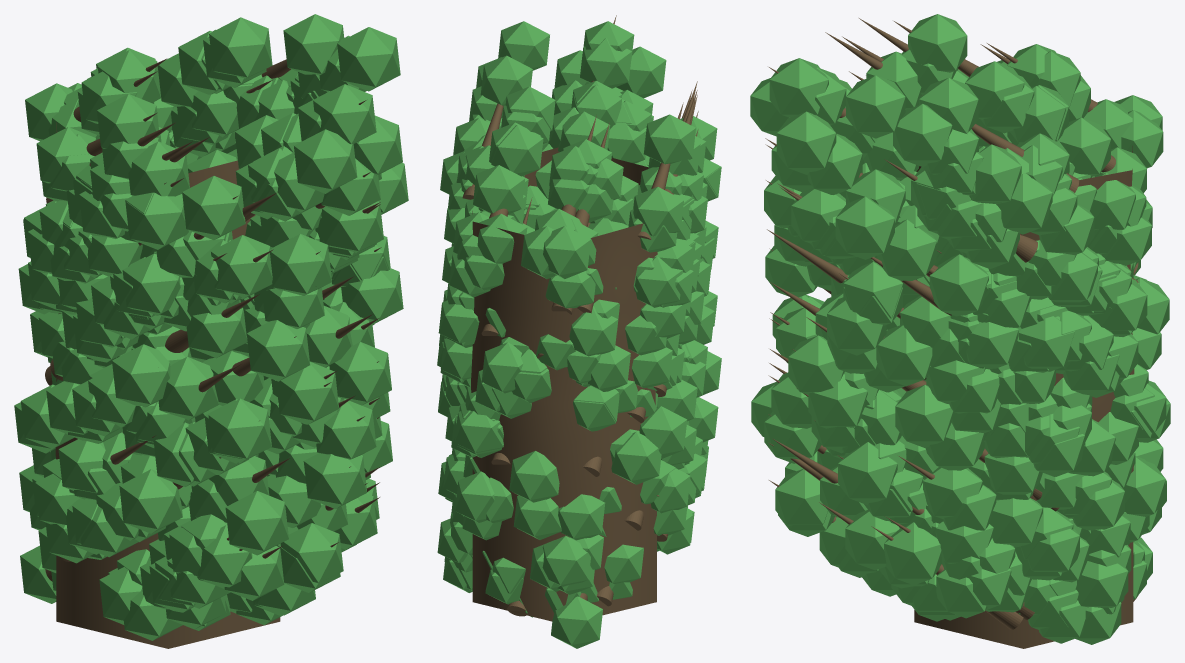
Rendered from tree_var_5822.glb.
3 views of the same model, side by side, from view 1: azimuth 30°, elevation 25°; view 2: azimuth 150°, elevation 25°; view 3: azimuth 270°, elevation 25° (orthographic). The views are drawn at different scales.
Visible parts, largest first — view 1: tree_var_5822; view 2: tree_var_5822; view 3: tree_var_5822.
Part boxes in pixels (bbox=[...]): tree_var_5822: bbox=[14, 14, 408, 648]; tree_var_5822: bbox=[437, 15, 721, 648]; tree_var_5822: bbox=[750, 14, 1170, 648].
Bounding box in the file's own units: 2.69 × 5.32 × 3.32.
